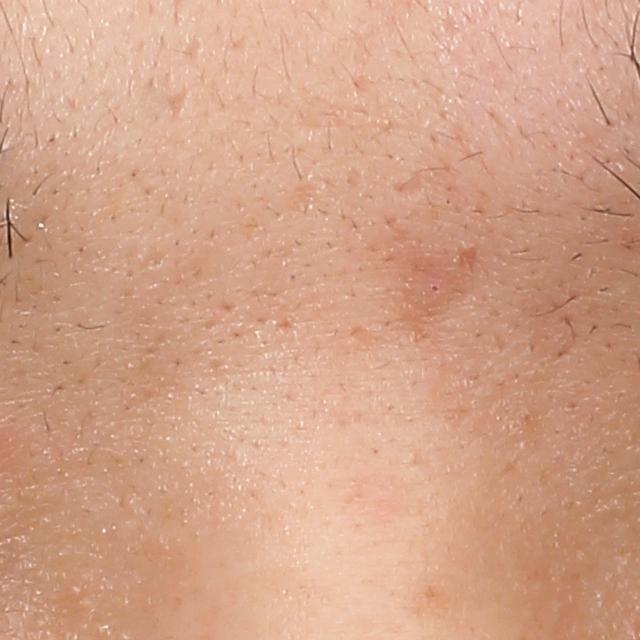atrophic_scar: (387, 159, 430, 204), (454, 237, 484, 277), (165, 84, 192, 123)
